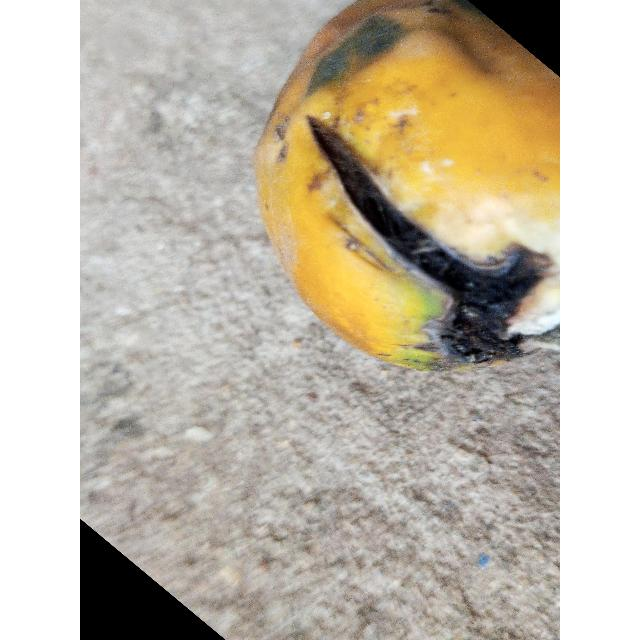damaged: (254, 0, 560, 371)
